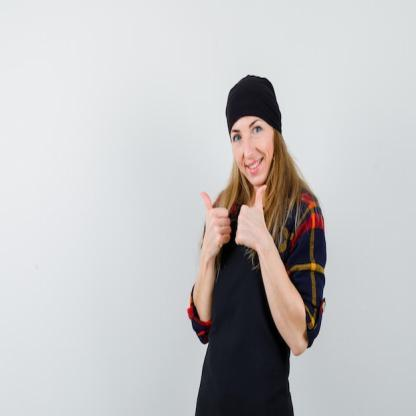thumb_up: (195, 187, 233, 259), (235, 184, 269, 252)
